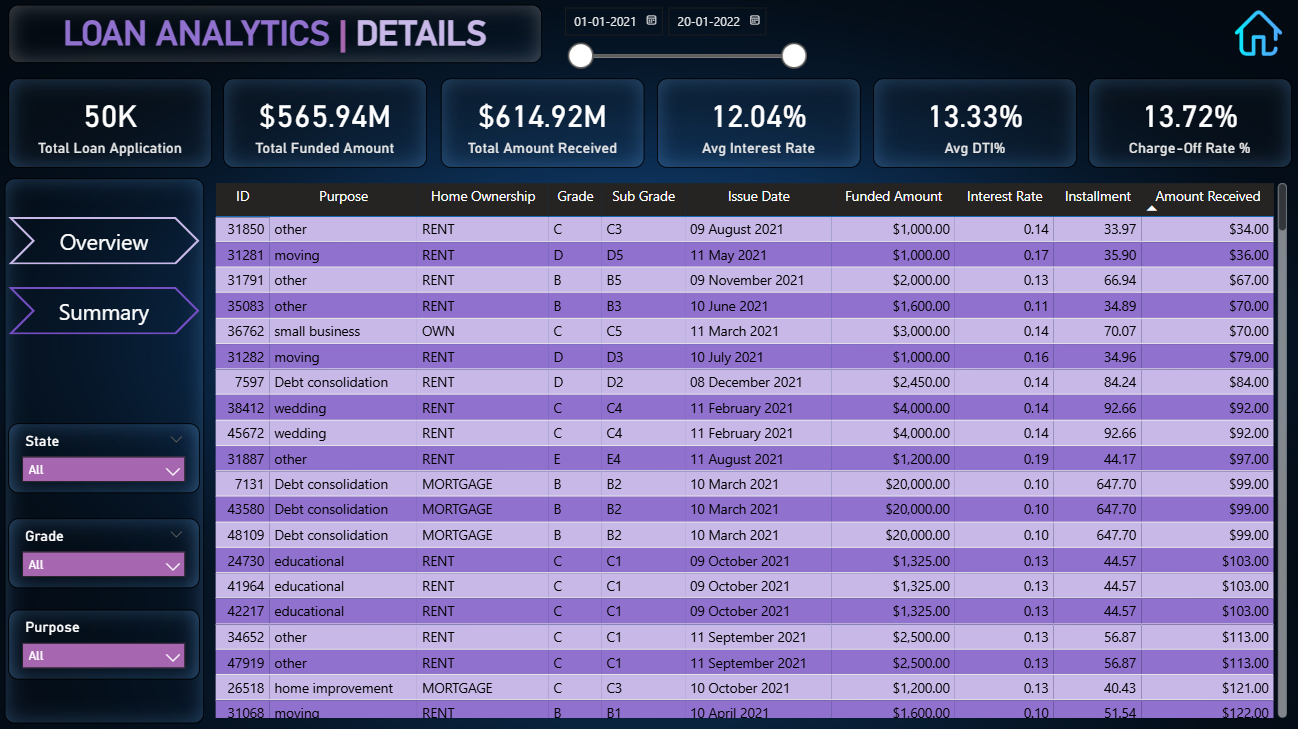

What the dashboard file says about the page in this screenshot:
{"tool":"powerbi","page":{"name":"Details","canvas":[1280,720],"ordinal":3},"visuals":[{"type":"shape","box":[7.4,177.9,196.3,535],"z":0},{"type":"textbox","box":[11,7.4,523.9,57.7],"z":1000},{"type":"card","fields":{"Values":["Measure_table.Total_Loan_Application"]},"box":[11,79.8,200,88.3],"z":2000},{"type":"card","fields":{"Values":["Measure_table.Total_Funded_Amount"]},"box":[222.1,79.8,200,88.3],"z":3000},{"type":"card","fields":{"Values":["Measure_table.Total Amount Received"]},"box":[435.6,79.8,200,88.3],"z":4000},{"type":"card","fields":{"Values":["Measure_table.Average_Interest_Rate"]},"box":[647.9,79.8,200,88.3],"z":5000},{"type":"card","fields":{"Values":["Measure_table.Avg DTI%"]},"box":[860.1,79.8,200,88.3],"z":6000},{"type":"tableEx","fields":{"Values":["Loan.LoanKey","Loan.Purpose","Customer.HomeOwnership","Loan.Grade","Loan.SubGrade","Loan.IssueDate","Measure_table.Total_Funded_Amount","Sum(Loan.InterestRate)","Sum(Loan.Installment)","Measure_table.Total Amount Received"]},"box":[208.6,177.9,1062.6,535],"z":7000},{"type":"shape","box":[11,216,187.7,46.6],"z":8000},{"type":"shape","box":[11,284.7,187.7,46.6],"z":9000},{"type":"card","fields":{"Values":["Measure_table.Charge-Off Rate %"]},"box":[1071.2,79.8,200,88.3],"z":10000},{"type":"image","box":[1213,12.3,50,46.7],"z":11000},{"type":"slicer","fields":{"Values":["State.StateName"]},"box":[11,418.4,187.7,68.7],"z":12000},{"type":"slicer","fields":{"Values":["Loan.Grade"]},"box":[11,511.7,187.7,68.7],"z":13000},{"type":"slicer","fields":{"Values":["LoanPurpose.Purpose"]},"box":[11,601.2,187.7,68.7],"z":14000},{"type":"slicer","fields":{"Values":["Date.Date"]},"box":[544.8,0,258.9,79.8],"z":14001}]}

Visuals, with their boxes in screenshot pixels (x1, y1, x2, y2), scaled from the page's 1280x720 canvas onto the 1298x729 screenshot:
shape: locate(8, 180, 207, 722)
textbox: locate(11, 7, 542, 66)
card - Measure_table.Total_Loan_Application: locate(11, 81, 214, 170)
card - Measure_table.Total_Funded_Amount: locate(225, 81, 428, 170)
card - Measure_table.Total Amount Received: locate(442, 81, 645, 170)
card - Measure_table.Average_Interest_Rate: locate(657, 81, 860, 170)
card - Measure_table.Avg DTI%: locate(872, 81, 1075, 170)
tableEx - Loan.LoanKey x Loan.Purpose: locate(212, 180, 1289, 722)
shape: locate(11, 219, 201, 266)
shape: locate(11, 288, 201, 335)
card - Measure_table.Charge-Off Rate %: locate(1086, 81, 1289, 170)
image: locate(1230, 12, 1281, 60)
slicer - State.StateName: locate(11, 424, 201, 493)
slicer - Loan.Grade: locate(11, 518, 201, 588)
slicer - LoanPurpose.Purpose: locate(11, 609, 201, 678)
slicer - Date.Date: locate(552, 0, 815, 81)
